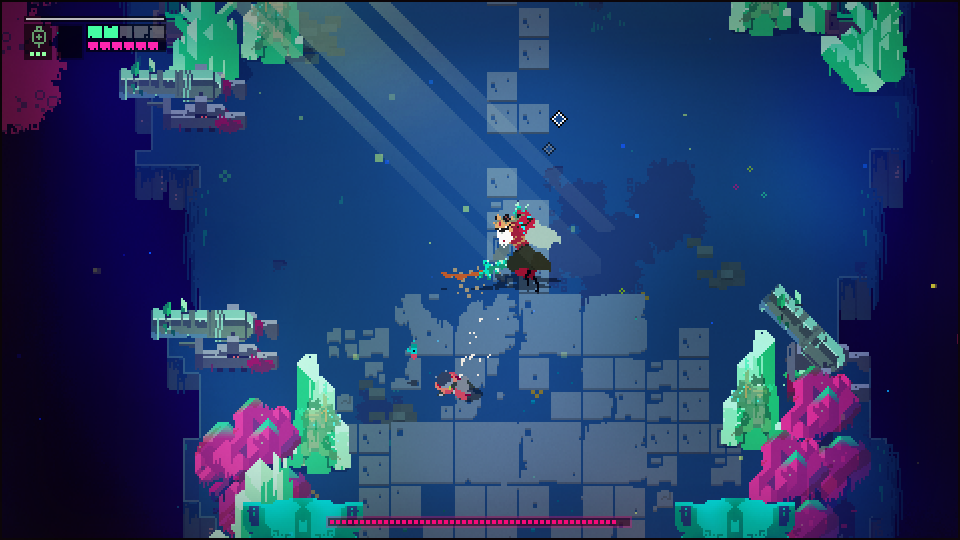hanged_man: (477, 194, 565, 301)
player: (432, 368, 488, 405)
